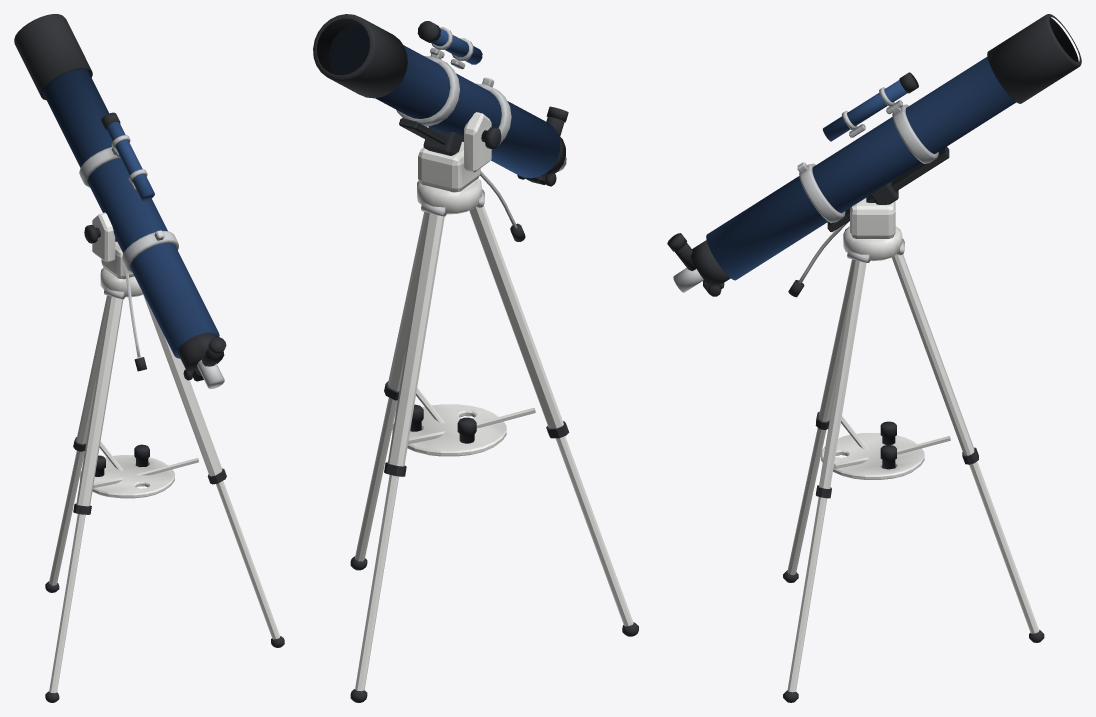
The model's file is telescope.glb.
3 renders of one model, left to right at view 1: azimuth 30°, elevation 25°; view 2: azimuth 150°, elevation 25°; view 3: azimuth 270°, elevation 25°, orthographic. The views are drawn at different scales.
Visible parts, largest first — view 1: tube, body; view 2: body, tube; view 3: tube, body.
Part boxes in pixels (<box>): tube: <box>14,14,226,388</box>; body: <box>45,212,284,702</box>; body: <box>350,112,638,702</box>; tube: <box>313,14,568,186</box>; tube: <box>667,14,1081,296</box>; body: <box>783,198,1044,702</box>.
Bounding box in the file's own units: 0.6578 × 1.52 × 0.9116.
